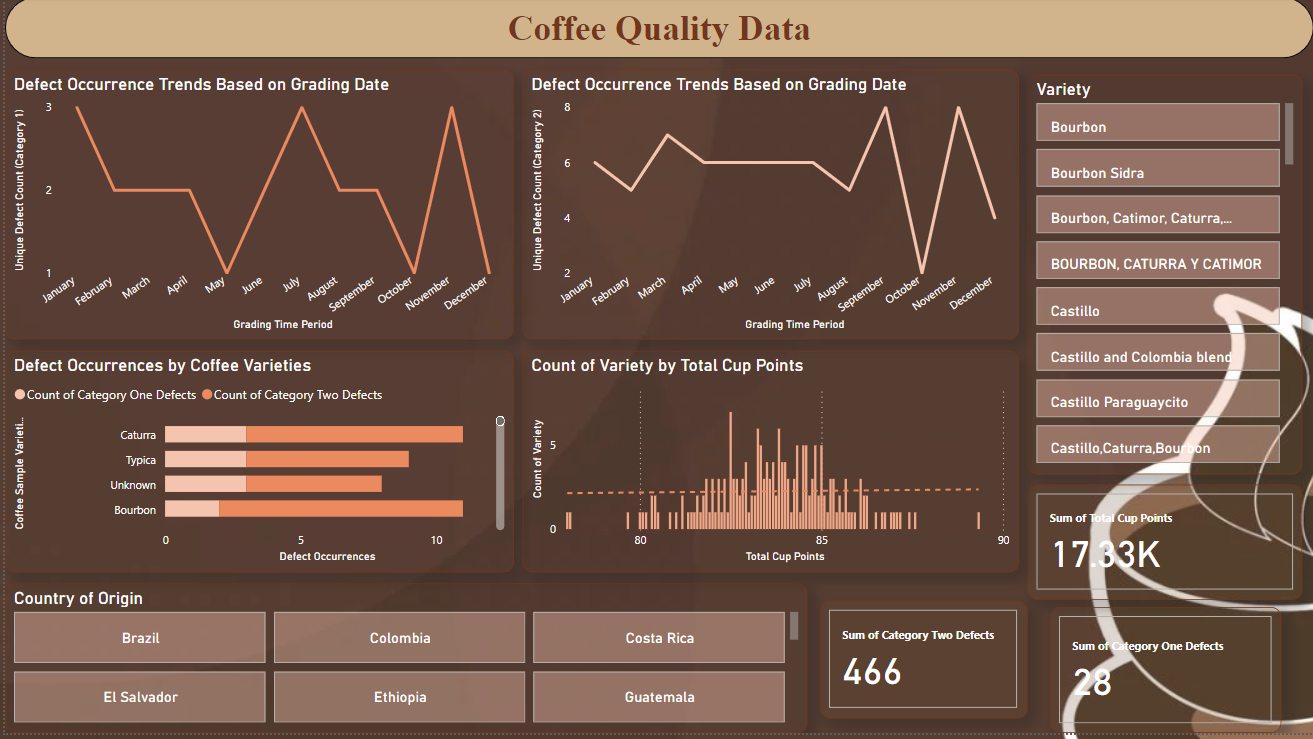

What the dashboard file says about the page in this screenshot:
{"tool":"powerbi","page":{"name":"Task -3","canvas":[1280,720],"ordinal":4},"visuals":[{"type":"shape","box":[0,0,1280.3,59.9],"z":0},{"type":"advancedSlicerVisual","fields":{"Values":["coffee data.Country of Origin"]},"box":[0,573.5,785.1,146.7],"z":1000},{"type":"advancedSlicerVisual","fields":{"Values":["coffee data.Variety"]},"box":[1000.3,75.8,269,391.3],"z":2000},{"type":"cardVisual","fields":{"Data":["Sum(coffee data.Total Cup Points)"]},"box":[1000.3,476.9,269,112.5],"z":3000},{"type":"lineChart","title":"Defect Occurrence Trends Based on Grading Date","fields":{"Y":["Count(coffee data.Category One Defects)"],"Category":["coffee data.Grading.Variation.Date Hierarchy.Year","coffee data.Grading.Variation.Date Hierarchy.Quarter","coffee data.Grading.Variation.Date Hierarchy.Month","coffee data.Grading.Variation.Date Hierarchy.Day"]},"box":[0,70.9,497.7,264.1],"z":4000},{"type":"lineChart","title":"Defect Occurrence Trends Based on Grading Date","fields":{"Category":["coffee data.Grading.Variation.Date Hierarchy.Year","coffee data.Grading.Variation.Date Hierarchy.Quarter","coffee data.Grading.Variation.Date Hierarchy.Month","coffee data.Grading.Variation.Date Hierarchy.Day"],"Y":["Count(coffee data.Category Two Defects)"]},"box":[506.3,70.9,485.5,264.1],"z":5000},{"type":"barChart","title":"Defect Occurrences by Coffee Varieties","fields":{"Y":["Count(coffee data.Category One Defects)","Count(coffee data.Category Two Defects)"],"Category":["coffee data.Variety"]},"box":[0,346.1,497.7,216.4],"z":6000},{"type":"lineClusteredColumnComboChart","title":"Count of Variety  by Total Cup Points","fields":{"Y":["Count(coffee data.Variety)"],"Category":["coffee data.Total Cup Points"]},"box":[506.3,346.1,485.5,216.4],"z":7000},{"type":"cardVisual","fields":{"Data":["Sum(coffee data.Category One Defects)"]},"box":[1022.3,596.7,226.2,123.5],"z":8000},{"type":"cardVisual","fields":{"Data":["Sum(coffee data.Category Two Defects)"]},"box":[797.3,590.6,203,114.9],"z":9000}]}

Visuals, with their boxes in screenshot pixels (x1, y1, x2, y2), scaled from the page's 1280x720 canvas onto the 1313x739 screenshot:
shape: 0:0:1312:61
advancedSlicerVisual - coffee data.Country of Origin: 0:589:805:738
advancedSlicerVisual - coffee data.Variety: 1026:78:1302:479
cardVisual - Sum(coffee data.Total Cup Points): 1026:489:1302:605
"Defect Occurrence Trends Based on Grading Date" lineChart: 0:73:511:344
"Defect Occurrence Trends Based on Grading Date" lineChart: 519:73:1017:344
"Defect Occurrences by Coffee Varieties" barChart: 0:355:511:577
"Count of Variety  by Total Cup Points" lineClusteredColumnComboChart: 519:355:1017:577
cardVisual - Sum(coffee data.Category One Defects): 1049:612:1281:738
cardVisual - Sum(coffee data.Category Two Defects): 818:606:1026:724
